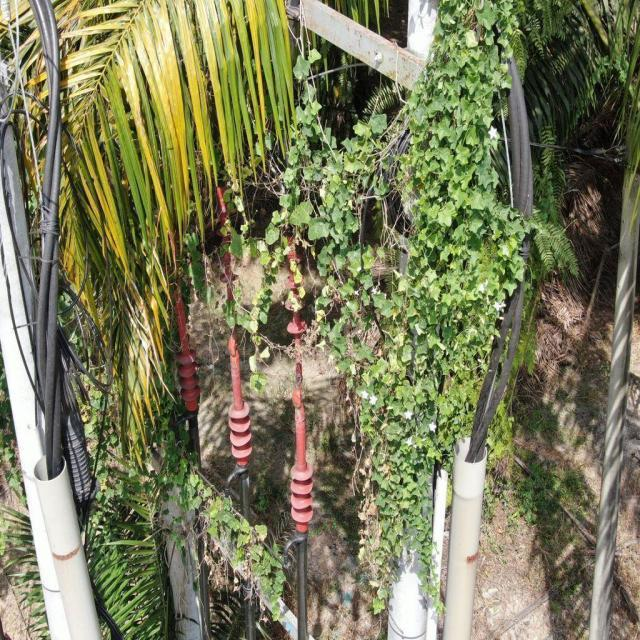critical vegetation: (214, 33, 532, 546)
